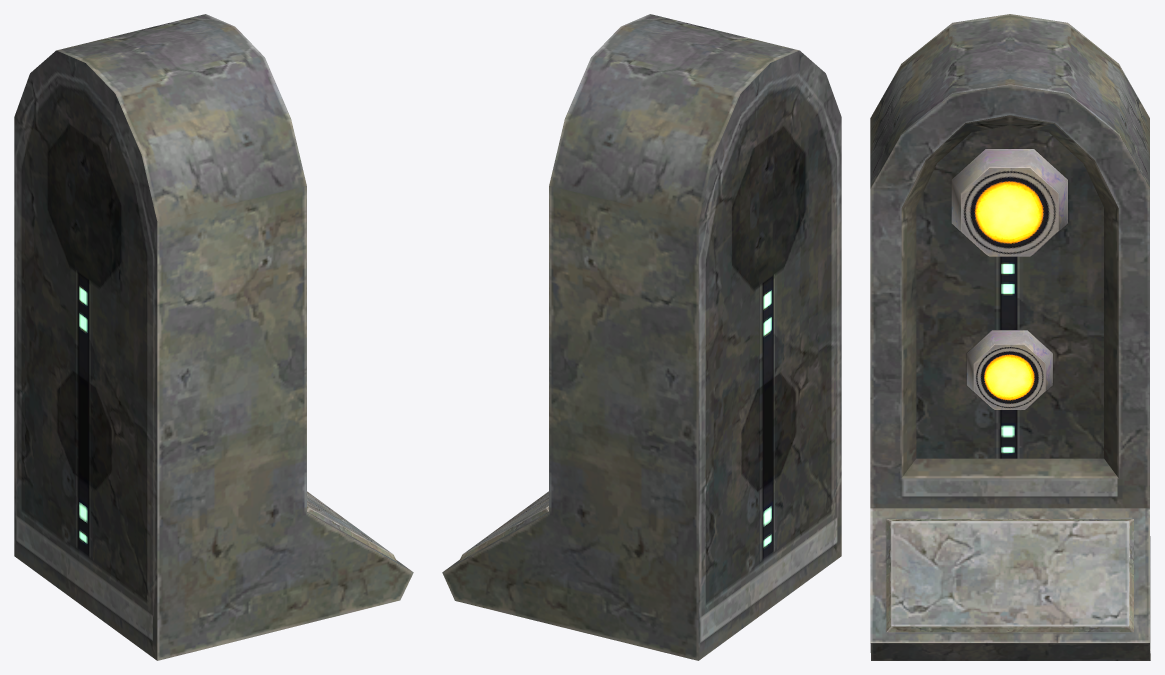
File: all_arch_rakata_wall_set04.glb
The picture shows the model from 3 angles, left to right: view 1: azimuth 30°, elevation 25°; view 2: azimuth 150°, elevation 25°; view 3: azimuth 270°, elevation 25°; orthographic projection. The views are drawn at different scales.
Visible parts, largest first — view 1: all_arch_rakata_wall_set04; view 2: all_arch_rakata_wall_set04; view 3: all_arch_rakata_wall_set04.
Boxes of the visible parts, left/top/right/bottom form: all_arch_rakata_wall_set04: left=14, top=14, right=413, bottom=660; all_arch_rakata_wall_set04: left=442, top=14, right=841, bottom=660; all_arch_rakata_wall_set04: left=870, top=14, right=1150, bottom=660.
Size of the model in its own units: 0.3101 by 0.6304 by 0.3007.
Materials: 1 (1 with a texture image).
